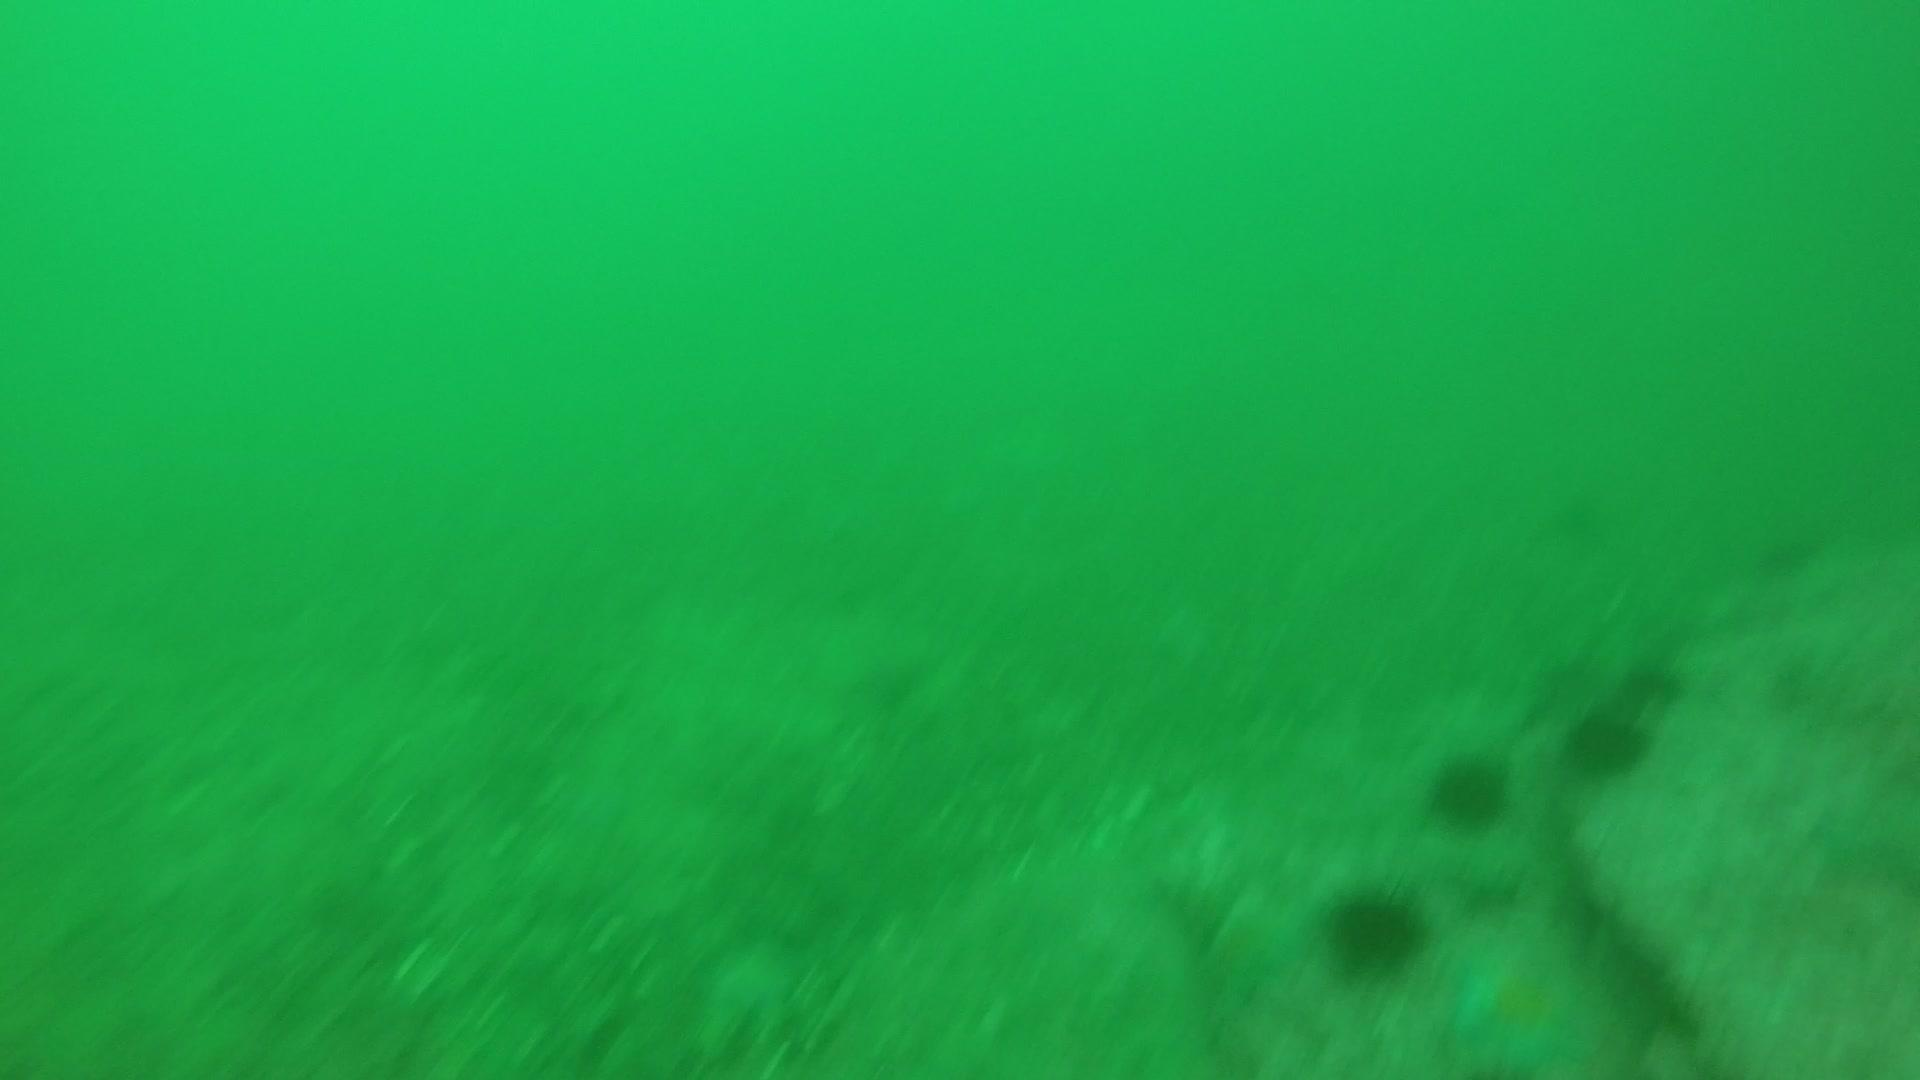echinus: (1320, 880, 1429, 977), (1424, 746, 1513, 832), (1560, 703, 1654, 781), (1618, 651, 1687, 712), (1753, 527, 1820, 588)
starfish: (1443, 938, 1609, 1076), (698, 932, 808, 1036), (1203, 882, 1302, 992)
